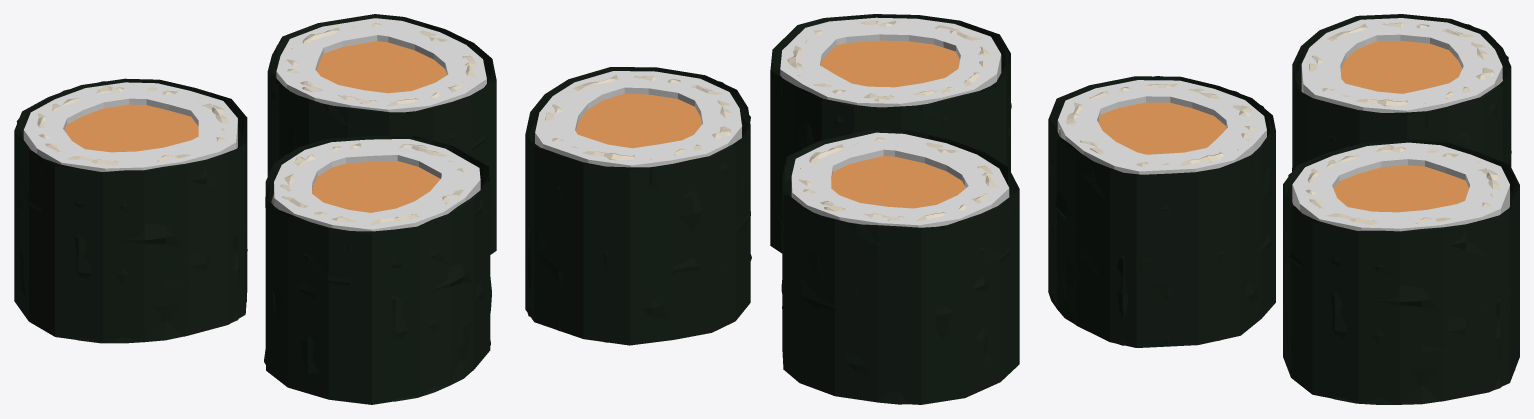
File: salmonsushi.glb
3 views of the same model, side by side, from view 1: azimuth 30°, elevation 25°; view 2: azimuth 150°, elevation 25°; view 3: azimuth 270°, elevation 25° (orthographic). The views are drawn at different scales.
Visible parts, largest first — view 1: nori.003, nori.004, nori.005, rice.003, rice.004, rice.005, nori, nori.001, fish.001, fish.002, fish, nori.002 (+3 smaller); view 2: nori.003, nori.005, nori.004, rice.004, rice.003, rice.005, fish.002, fish, nori, fish.001, nori.002, nori.001 (+3 smaller); view 3: nori.005, nori.004, nori.003, rice.004, rice.005, rice.003, nori.002, nori.001, fish, fish.001, fish.002, nori (+3 smaller).
Part boxes in pixels (bbox=[...]): nori.003: bbox=[14, 78, 247, 343]; nori.004: bbox=[265, 135, 490, 404]; nori.005: bbox=[267, 14, 496, 254]; rice.003: bbox=[23, 82, 237, 171]; rice.004: bbox=[274, 139, 480, 231]; rice.005: bbox=[276, 18, 486, 112]; nori: bbox=[16, 80, 247, 343]; nori.001: bbox=[264, 135, 491, 401]; fish.001: bbox=[312, 161, 440, 212]; fish.002: bbox=[316, 41, 446, 93]; fish: bbox=[64, 104, 198, 152]; nori.002: bbox=[270, 15, 492, 164]; nori.003: bbox=[782, 128, 1019, 404]; nori.005: bbox=[525, 67, 750, 345]; nori.004: bbox=[770, 14, 1010, 253]; rice.004: bbox=[780, 17, 1001, 107]; rice.003: bbox=[791, 132, 1009, 227]; rice.005: bbox=[535, 71, 741, 167]; fish.002: bbox=[576, 93, 701, 148]; fish: bbox=[831, 156, 965, 208]; nori: bbox=[781, 129, 1013, 404]; fish.001: bbox=[821, 40, 959, 87]; nori.002: bbox=[527, 67, 751, 342]; nori.001: bbox=[771, 15, 1011, 225]; nori.005: bbox=[1283, 139, 1519, 404]; nori.004: bbox=[1048, 76, 1275, 347]; nori.003: bbox=[1292, 14, 1511, 169]; rice.004: bbox=[1057, 80, 1266, 174]; rice.005: bbox=[1292, 142, 1509, 231]; rice.003: bbox=[1301, 18, 1502, 112]; nori.002: bbox=[1284, 140, 1517, 404]; nori.001: bbox=[1048, 76, 1273, 346]; fish: bbox=[1340, 40, 1462, 93]; fish.001: bbox=[1098, 102, 1226, 154]; fish.002: bbox=[1333, 165, 1468, 212]; nori: bbox=[1292, 15, 1511, 171].
Bounding box in the file's own units: 4.09 × 1.54 × 3.72.
